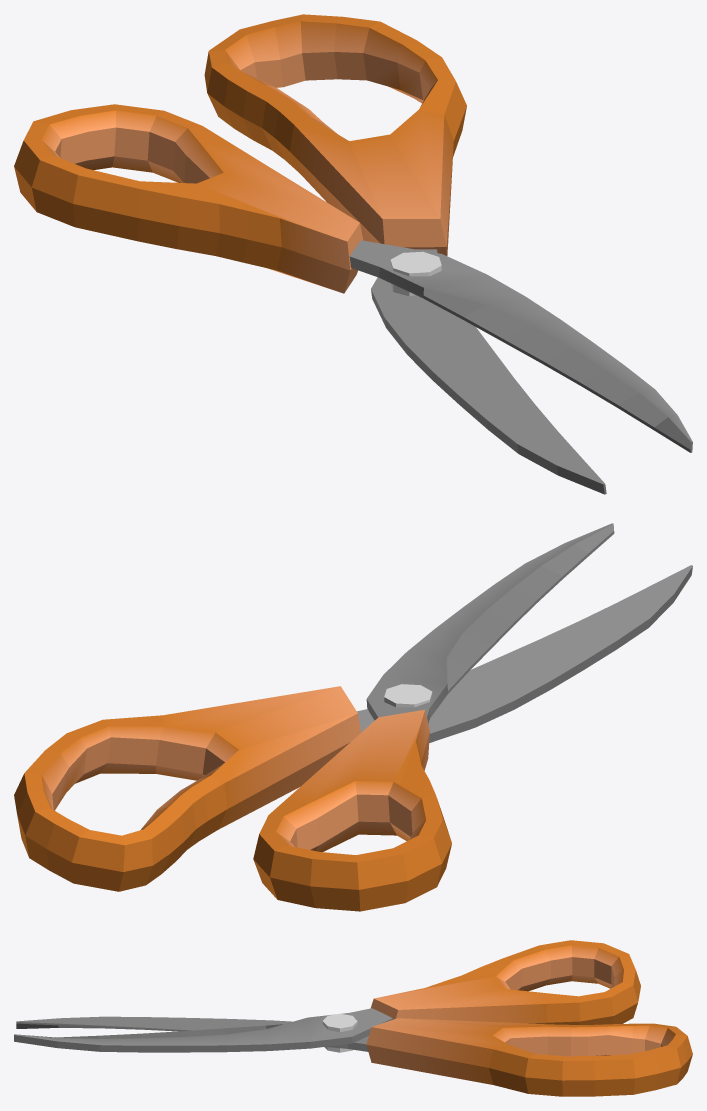
Rendered from TesouraAnimada.fbx.
The picture shows the model from 3 angles, top to bottom: view 1: azimuth 30°, elevation 25°; view 2: azimuth 150°, elevation 25°; view 3: azimuth 270°, elevation 25°; orthographic projection. The views are drawn at different scales.
Parts seen in each view (by area): view 1: tesoura_Afiada, tesoura_Afiada.001, Pivo; view 2: tesoura_Afiada.001, tesoura_Afiada, Pivo; view 3: tesoura_Afiada.001, tesoura_Afiada, Pivo.
Boxes of the visible parts, <box> form: tesoura_Afiada: <box>14,104,692,452</box>; tesoura_Afiada.001: <box>204,14,606,494</box>; Pivo: <box>390,251,441,296</box>; tesoura_Afiada.001: <box>14,565,692,891</box>; tesoura_Afiada: <box>253,523,614,911</box>; Pivo: <box>384,684,432,721</box>; tesoura_Afiada.001: <box>16,1016,692,1096</box>; tesoura_Afiada: <box>14,940,640,1052</box>; Pivo: <box>322,1013,357,1052</box>.
Size of the model in its own units: 7.39 by 1.3 by 15.86.
